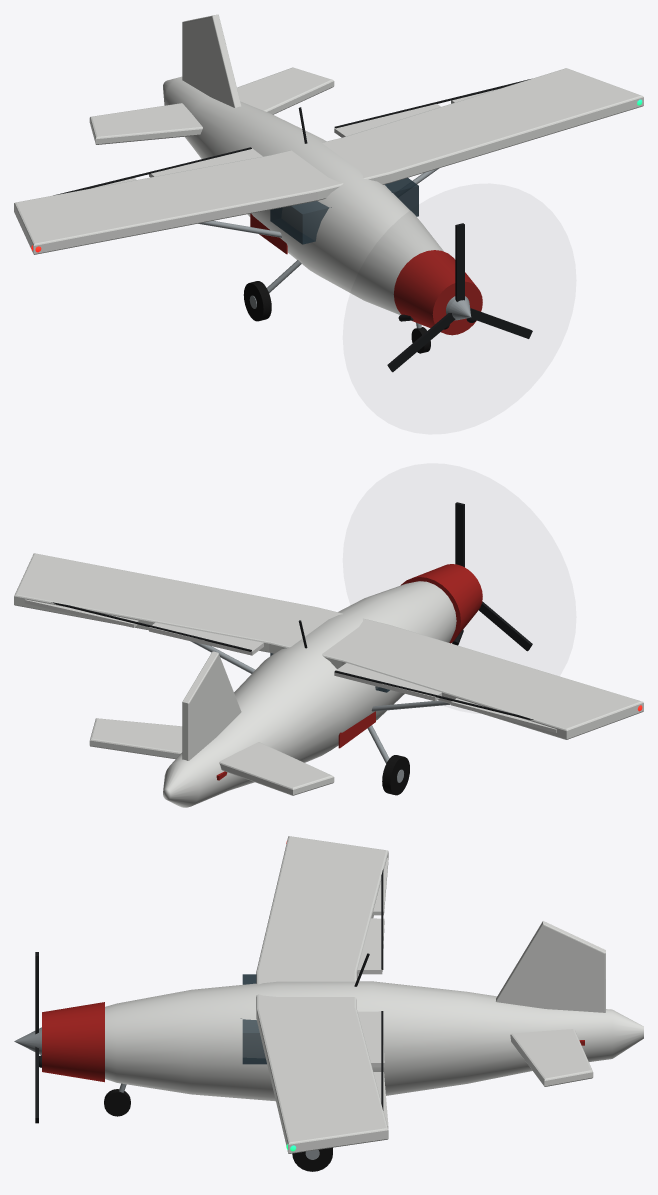
The model's file is cessna-aircraft.glb.
3 views of the same model, one above another, from view 1: azimuth 30°, elevation 25°; view 2: azimuth 150°, elevation 25°; view 3: azimuth 270°, elevation 25° (orthographic). The views are drawn at different scales.
Visible parts, largest first — view 1: Main_Wing, Closed_Fuselage, Tailplane, Engine_Cowling, Vertical_Stabilizer, Port_Cockpit_Window, Starboard_Flap, Port_Main_Wheel, Port_Flap, Propeller_Blade_3, Propeller_Blade_1, Starboard_Cockpit_Window (+1 smaller); view 2: Main_Wing, Closed_Fuselage, Tailplane, Vertical_Stabilizer, Engine_Cowling, Starboard_Flap, Port_Flap, Port_Main_Wheel, Starboard_Aileron, Port_Aileron, Propeller_Blade_3, Propeller_Blade_1 (+3 smaller); view 3: Closed_Fuselage, Main_Wing, Vertical_Stabilizer, Engine_Cowling, Tailplane, Port_Flap, Starboard_Flap, Starboard_Cockpit_Window, Starboard_Main_Wheel, Nose_Wheel.
Boxes of the visible parts, x1=… form: Main_Wing: x1=14, y1=68, x2=643, y2=254; Closed_Fuselage: x1=163, y1=76, x2=443, y2=314; Tailplane: x1=89, y1=67, x2=334, y2=144; Engine_Cowling: x1=393, y1=250, x2=482, y2=335; Vertical_Stabilizer: x1=182, y1=14, x2=241, y2=107; Port_Cockpit_Window: x1=270, y1=201, x2=329, y2=244; Starboard_Flap: x1=334, y1=104, x2=440, y2=137; Port_Main_Wheel: x1=243, y1=281, x2=271, y2=321; Port_Flap: x1=149, y1=148, x2=262, y2=177; Propeller_Blade_3: x1=387, y1=313, x2=455, y2=372; Propeller_Blade_1: x1=455, y1=223, x2=464, y2=301; Starboard_Cockpit_Window: x1=384, y1=178, x2=418, y2=216; Main_Wing: x1=14, y1=553, x2=643, y2=739; Closed_Fuselage: x1=163, y1=581, x2=456, y2=807; Tailplane: x1=89, y1=718, x2=334, y2=795; Vertical_Stabilizer: x1=182, y1=651, x2=241, y2=760; Engine_Cowling: x1=400, y1=564, x2=482, y2=643; Starboard_Flap: x1=149, y1=622, x2=263, y2=655; Port_Flap: x1=334, y1=663, x2=441, y2=701; Port_Main_Wheel: x1=382, y1=755, x2=409, y2=795; Starboard_Aileron: x1=24, y1=599, x2=138, y2=627; Port_Aileron: x1=451, y1=698, x2=556, y2=732; Propeller_Blade_3: x1=479, y1=601, x2=532, y2=651; Propeller_Blade_1: x1=455, y1=502, x2=464, y2=567; Closed_Fuselage: x1=105, y1=981, x2=643, y2=1101; Main_Wing: x1=256, y1=836, x2=388, y2=1153; Vertical_Stabilizer: x1=496, y1=921, x2=605, y2=1012; Engine_Cowling: x1=42, y1=1002, x2=104, y2=1082; Tailplane: x1=510, y1=1029, x2=593, y2=1086; Port_Flap: x1=357, y1=918, x2=384, y2=974; Starboard_Flap: x1=358, y1=1011, x2=384, y2=1067; Starboard_Cockpit_Window: x1=242, y1=1019, x2=266, y2=1064; Starboard_Main_Wheel: x1=292, y1=1147, x2=332, y2=1171; Nose_Wheel: x1=104, y1=1089, x2=130, y2=1116.
Size of the model in its own units: 18.53 by 7.1 by 16.01.
